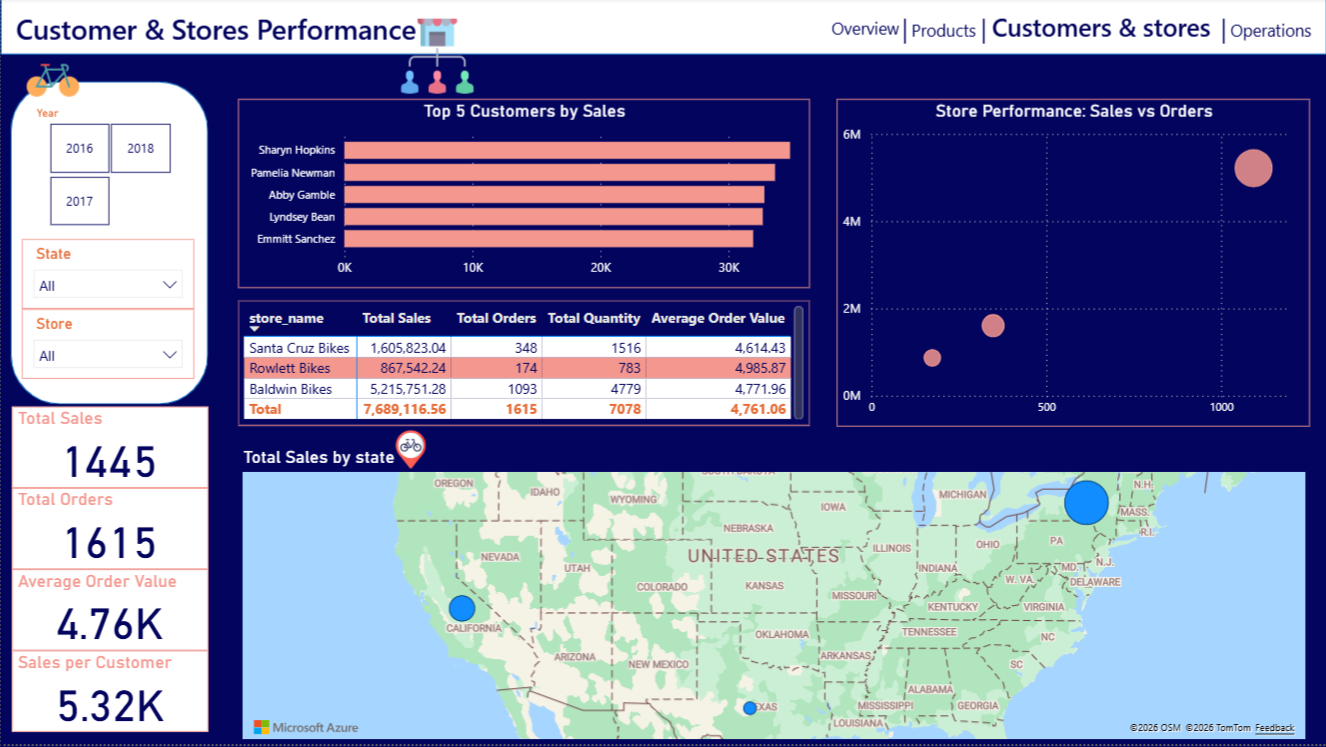

This screenshot's page, from the dashboard's own definition file:
{"tool":"powerbi","page":{"name":"Customer & Store Performance","canvas":[1280,720],"ordinal":2},"visuals":[{"type":"shape","box":[0,0,1280.3,54.9],"z":0},{"type":"shape","box":[9.6,81,190.7,311.5],"z":1000},{"type":"card","title":"Total Sales","fields":{"Values":["Fact_Sales.Total Customers"]},"box":[10.7,394.6,189.4,78.2],"z":2000},{"type":"card","title":"Total Orders","fields":{"Values":["Fact_Sales.Total Orders"]},"box":[11,473.4,189.4,78.2],"z":3000},{"type":"card","title":"Sales per Customer","fields":{"Values":["Fact_Sales.Sales per Customer"]},"box":[11,629.8,189.4,78.2],"z":4000},{"type":"card","title":"Average Order Value","fields":{"Values":["Fact_Sales.Average Order Value"]},"box":[11,551.6,189.4,78.2],"z":5000},{"type":"azureMap","fields":{"Size":["Fact_Sales.Total Sales"],"Category":["Dim_Customers.state"]},"box":[229.2,433.6,1034.7,286.8],"z":6000},{"type":"scatterChart","title":"Store Performance: Sales vs Orders","fields":{"X":["Fact_Sales.Total Orders"],"Y":["Fact_Sales.Total Sales"],"Size":["Fact_Sales.Total Quantity"],"Category":["Dim_Stores.store_name"]},"box":[806.9,97.4,456.9,315.6],"z":7000},{"type":"barChart","title":"Top 5 Customers by Sales","fields":{"Category":["Dim_Customers.customer_name"],"Y":["Fact_Sales.Total Sales"]},"box":[229.2,97.4,551.6,182.5],"z":8000},{"type":"pivotTable","fields":{"Rows":["Dim_Stores.store_name"],"Values":["Fact_Sales.Total Sales","Fact_Sales.Total Orders","Fact_Sales.Total Quantity","Fact_Sales.Average Order Value"]},"box":[229.2,292.3,551.6,120.8],"z":9000},{"type":"slicer","fields":{"Values":["Dim_Stores.state"]},"box":[20.6,232.6,166,67.2],"z":10000},{"type":"slicer","fields":{"Values":["Dim_Stores.store_name"]},"box":[20.6,300.5,166,67.2],"z":11000},{"type":"slicer","fields":{"Values":["Dim_Date.Year"]},"box":[22,100.2,166,126.2],"z":12000},{"type":"textbox","box":[9.6,6.9,403.4,56.3],"z":13000},{"type":"textbox","box":[1173.2,8.2,20.6,46.7],"z":14000},{"type":"actionButton","box":[1173.2,11,107,39.8],"z":15000},{"type":"actionButton","box":[795.9,9.6,76.8,39.8],"z":16000},{"type":"textbox","box":[864.5,8.2,20.6,45.3],"z":17000},{"type":"actionButton","box":[870,11,81,39.8],"z":18000},{"type":"textbox","box":[941.3,8.2,20.6,45.3],"z":19000},{"type":"textbox","box":[952.3,6.9,222.3,46.7],"z":20000},{"type":"image","box":[370.5,413,50.8,46.7],"z":21000},{"type":"image","box":[358.1,13.7,126.2,86.4],"z":22000},{"type":"image","box":[11,39.8,79.6,81],"z":23000}]}

Visuals, with their boxes in screenshot pixels (x1, y1, x2, y2), scaled from the page's 1280x720 canvas onto the 1326x747 screenshot:
shape: [0,0,1325,57]
shape: [10,84,207,407]
"Total Sales" card: [11,409,207,491]
"Total Orders" card: [11,491,208,572]
"Sales per Customer" card: [11,653,208,735]
"Average Order Value" card: [11,572,208,653]
azureMap - Fact_Sales.Total Sales x Dim_Customers.state: [237,450,1309,746]
"Store Performance: Sales vs Orders" scatterChart: [836,101,1309,428]
"Top 5 Customers by Sales" barChart: [237,101,809,290]
pivotTable - Dim_Stores.store_name x Fact_Sales.Total Sales: [237,303,809,429]
slicer - Dim_Stores.state: [21,241,193,311]
slicer - Dim_Stores.store_name: [21,312,193,381]
slicer - Dim_Date.Year: [23,104,195,235]
textbox: [10,7,428,66]
textbox: [1215,9,1237,57]
actionButton: [1215,11,1325,53]
actionButton: [825,10,904,51]
textbox: [896,9,917,56]
actionButton: [901,11,985,53]
textbox: [975,9,996,56]
textbox: [987,7,1217,56]
image: [384,428,436,477]
image: [371,14,502,104]
image: [11,41,94,125]
